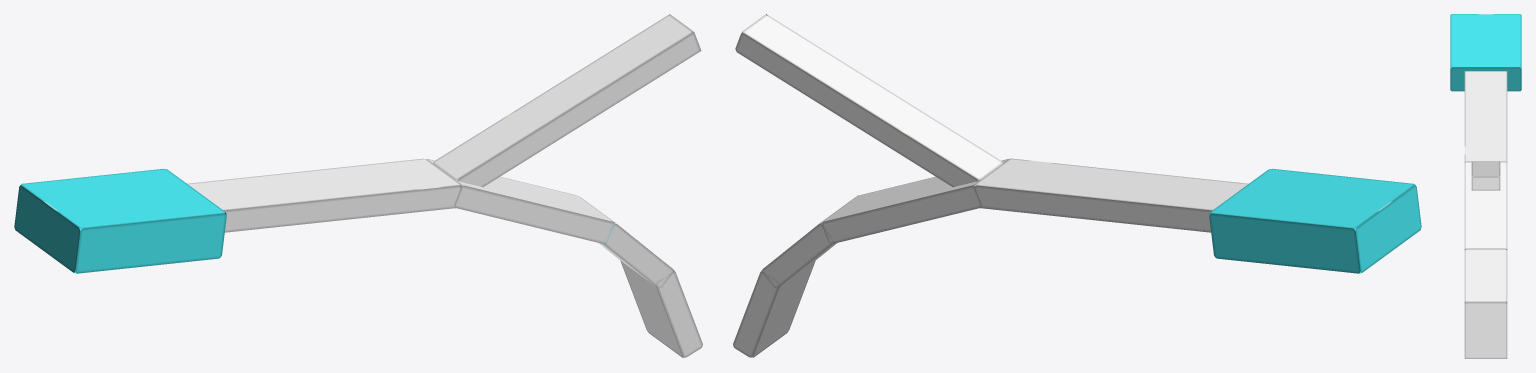
File: street_light_block_a.obj
3 renders of one model, left to right at view 1: azimuth 30°, elevation 25°; view 2: azimuth 150°, elevation 25°; view 3: azimuth 270°, elevation 25°, orthographic. The views are drawn at different scales.
Parts seen in each view (by area): view 1: cube; view 2: cube; view 3: cube.
Boxes of the visible parts, x1,y1,x2,y2 form: cube: (14, 14, 702, 357); cube: (733, 14, 1421, 357); cube: (1450, 14, 1521, 358).
Bounding box in the file's own units: 1.91 × 0.9009 × 0.3125.
